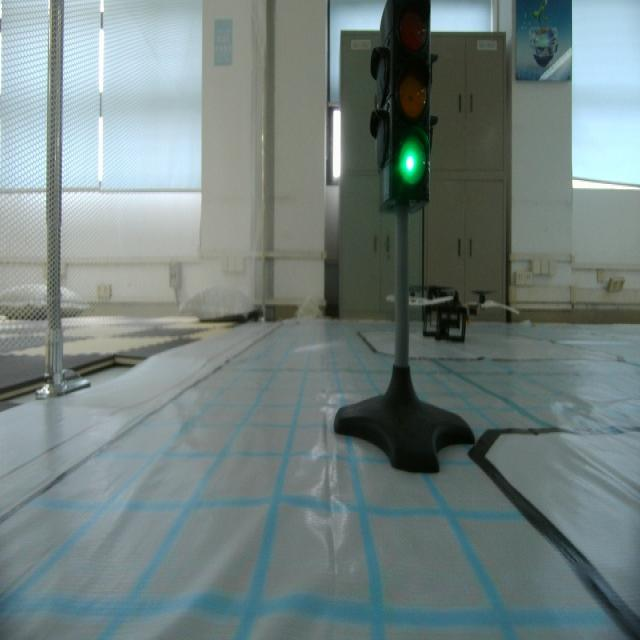green: (378, 2, 434, 220)
